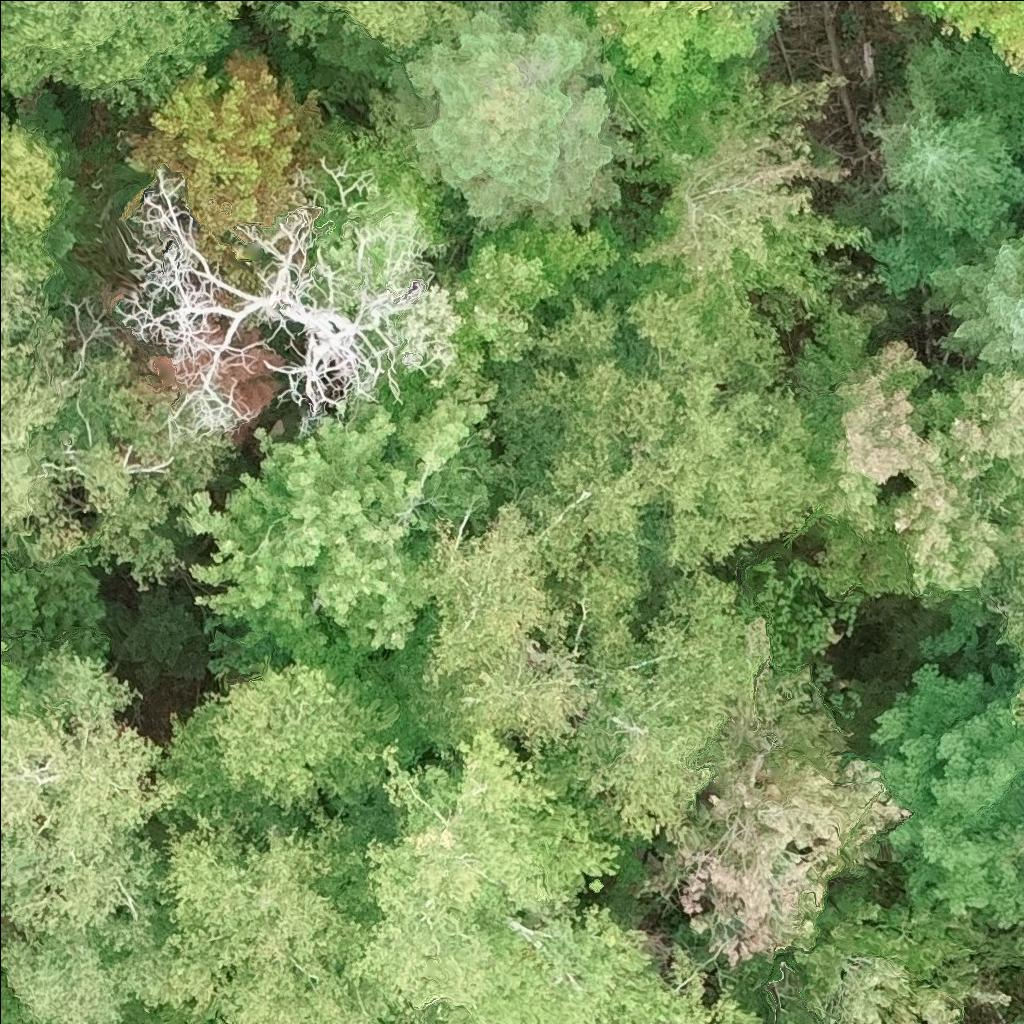crown: (343, 725, 769, 1023), (173, 368, 512, 680), (111, 153, 467, 440), (621, 268, 890, 573), (624, 64, 884, 327), (636, 716, 905, 970), (389, 0, 649, 231), (803, 338, 1023, 602), (0, 639, 187, 932), (153, 797, 383, 1023), (153, 644, 425, 824), (371, 490, 585, 699), (865, 660, 1023, 937), (70, 340, 237, 593), (119, 40, 327, 243), (482, 291, 670, 482), (791, 876, 1022, 1023), (538, 684, 733, 851), (876, 39, 1023, 260), (445, 212, 639, 379), (0, 0, 268, 115), (0, 235, 92, 567), (302, 115, 460, 280), (593, 0, 759, 148), (0, 891, 178, 1023), (405, 646, 598, 762), (515, 428, 668, 566), (553, 548, 657, 695), (923, 222, 1023, 366), (207, 953, 395, 1023), (944, 360, 1023, 521), (268, 0, 472, 60), (104, 581, 211, 688), (0, 111, 62, 279), (914, 0, 1023, 78), (647, 0, 785, 47), (504, 0, 578, 25), (1013, 901, 1023, 962), (1011, 687, 1023, 729), (1017, 1014, 1023, 1023)
